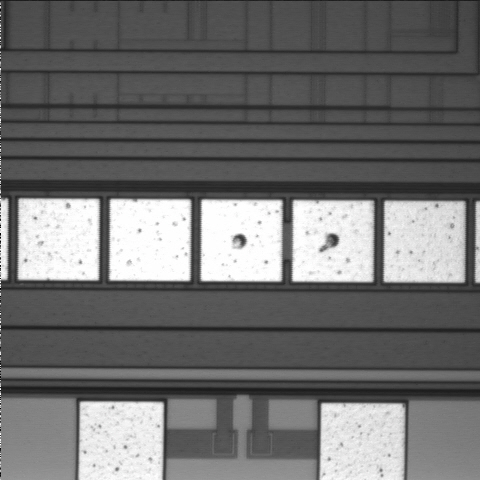pad: (109, 199, 191, 281), (292, 200, 374, 282), (18, 199, 99, 280), (201, 200, 282, 281), (384, 201, 465, 282)
